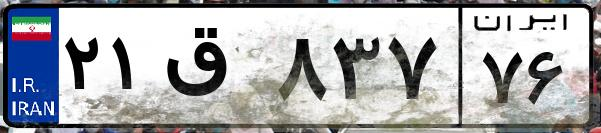1: (110, 28, 158, 98)
2: (57, 26, 110, 100)
3: (330, 28, 385, 110)
6: (525, 38, 570, 115)
7: (385, 28, 445, 110), (475, 38, 525, 113)
8: (270, 28, 330, 110)
ق: (158, 20, 270, 120)
